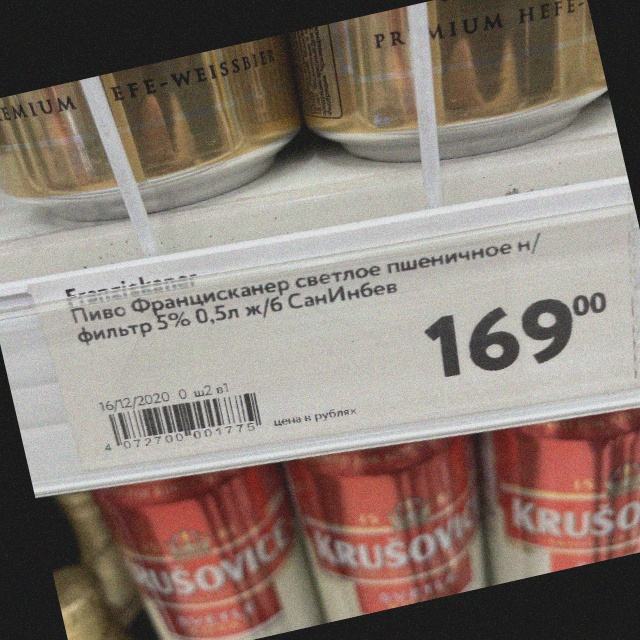barcode: (98, 388, 262, 454)
name: (64, 227, 545, 348)
price: (416, 292, 612, 382)
price_tag: (28, 214, 630, 474)
